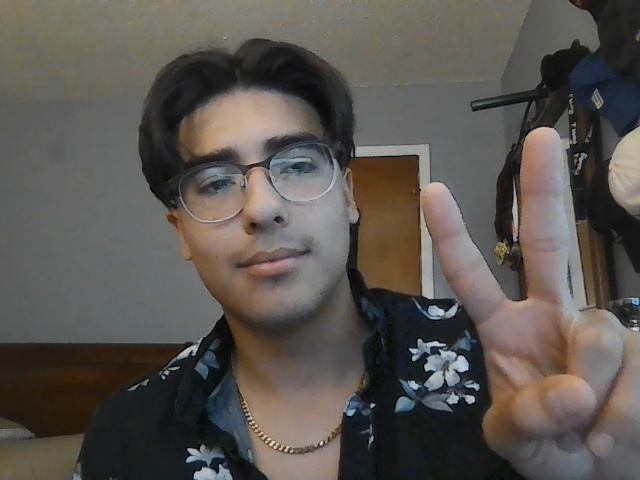PeaceSign: (419, 124, 640, 480)
